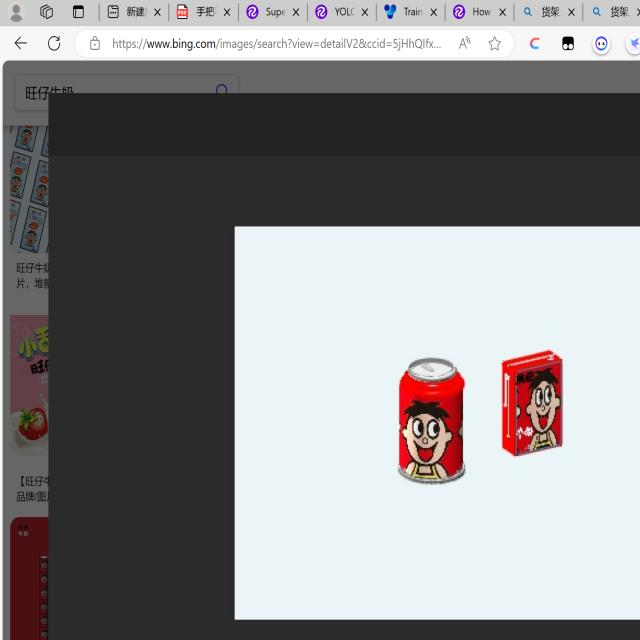wangzai_milk: (404, 399, 456, 482), (524, 370, 561, 454)
